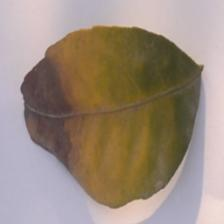black spot: (11, 46, 79, 161)
